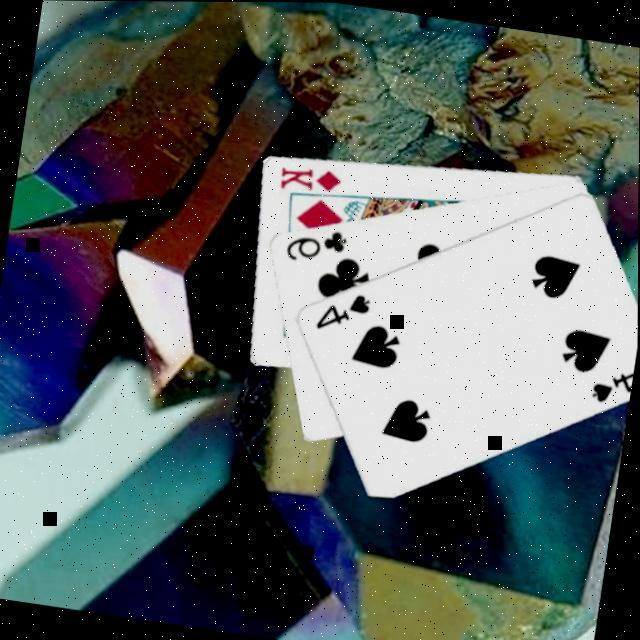4S: (309, 285, 373, 339), (585, 357, 635, 409)
6C: (279, 220, 349, 272)
KD: (272, 160, 344, 200)
